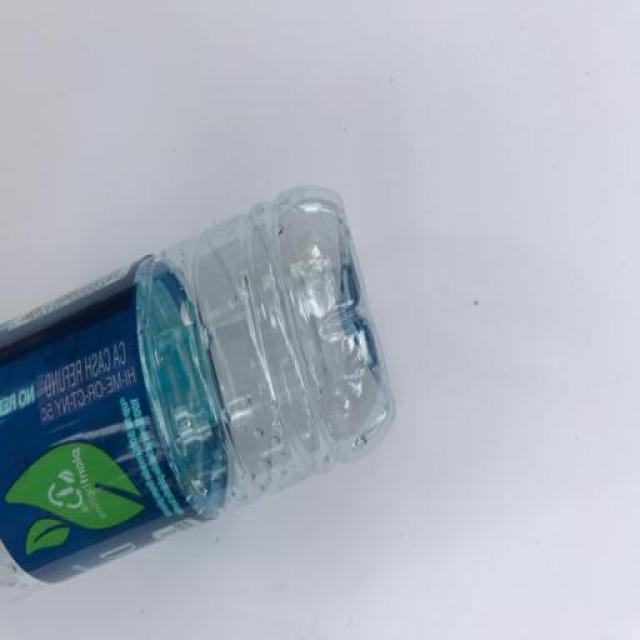plastic: (0, 176, 399, 612)
